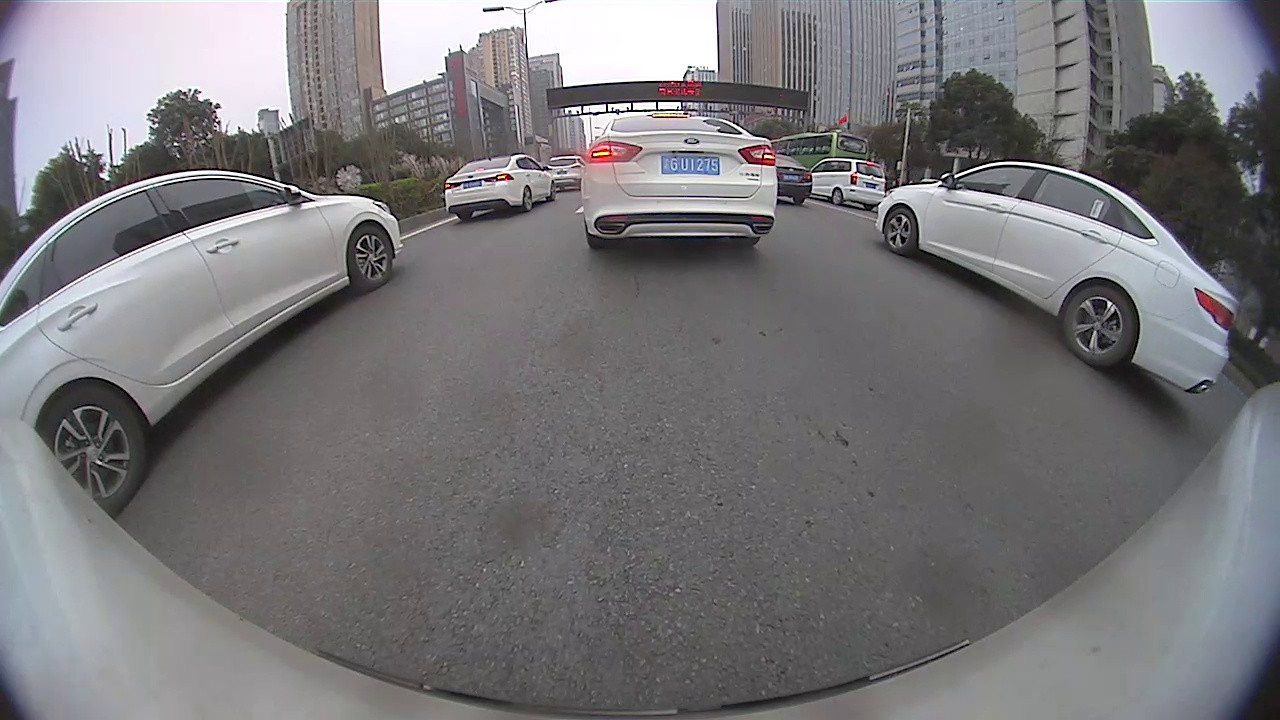bus: (771, 129, 869, 169)
car: (1, 169, 404, 518), (873, 161, 1238, 396), (581, 114, 777, 249), (444, 153, 556, 221), (810, 158, 886, 210), (775, 154, 812, 204), (548, 155, 586, 190)
front: (346, 220, 397, 292), (881, 202, 921, 254)
rear: (35, 378, 154, 517), (1062, 281, 1137, 371), (522, 187, 534, 212), (830, 188, 844, 206)
